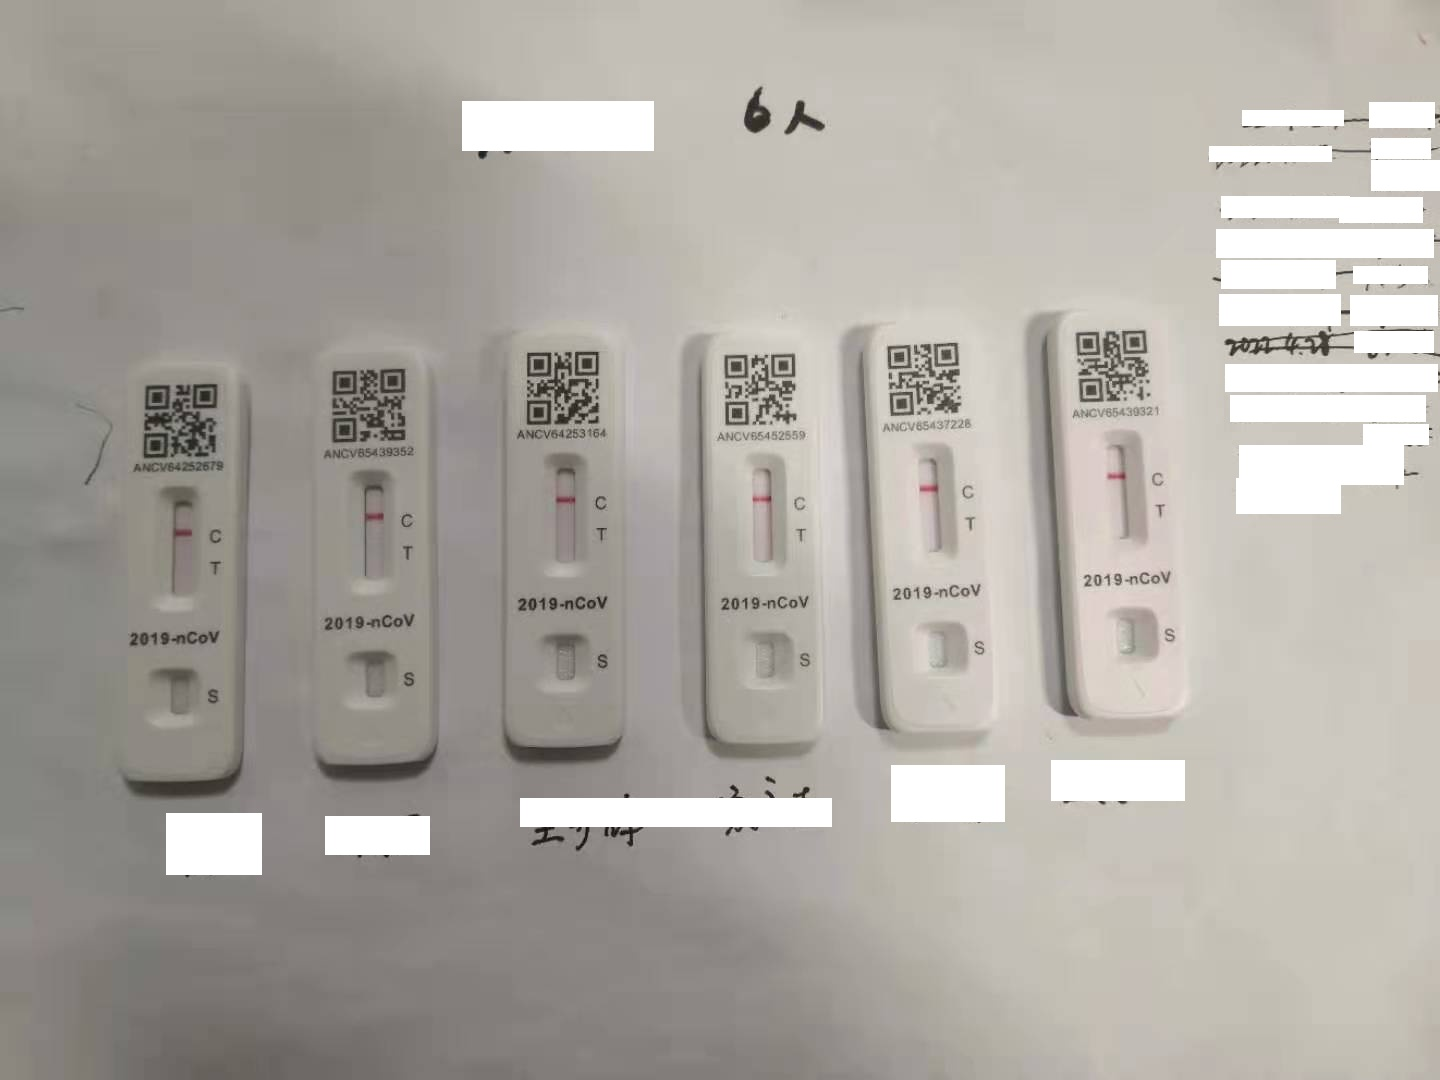negative: (345, 471, 396, 596), (154, 486, 200, 604), (910, 444, 956, 559), (1101, 434, 1147, 547), (545, 459, 585, 573), (745, 457, 779, 569)
